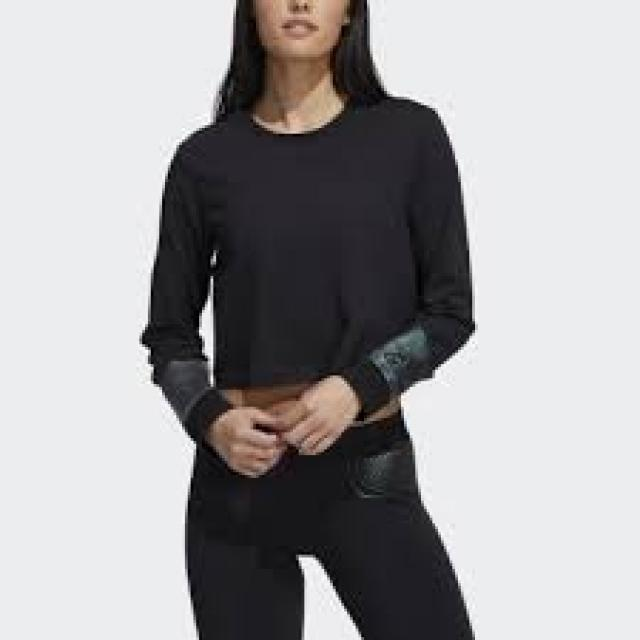plain: (138, 93, 482, 407)
